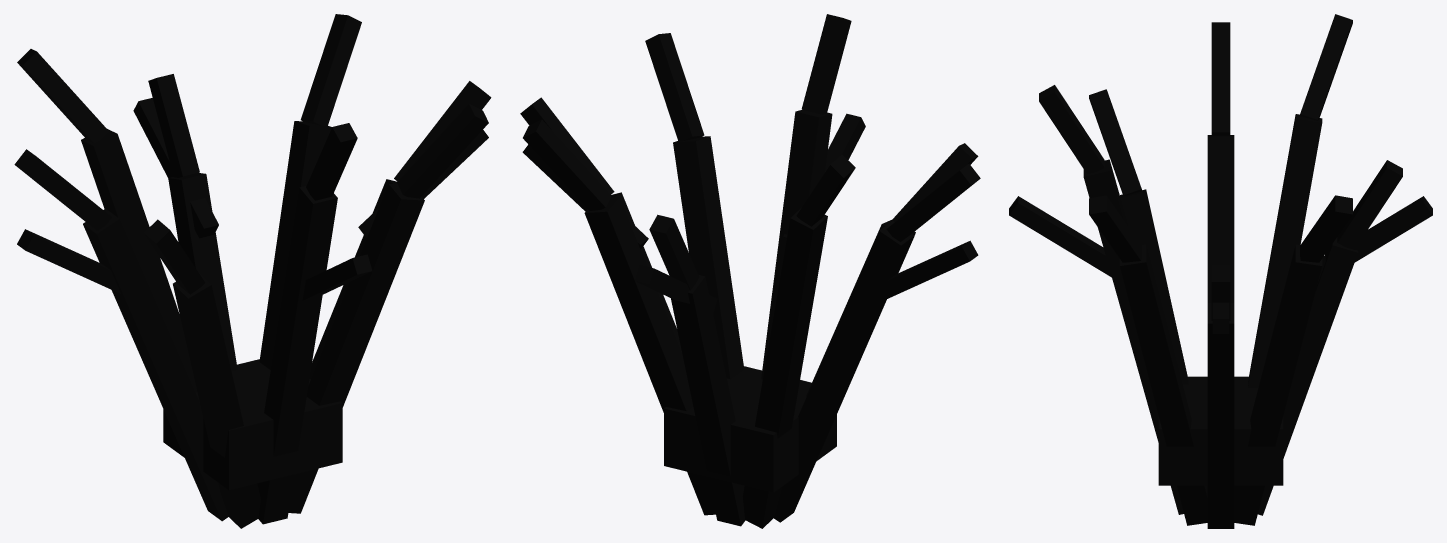
Rendered from mycelium_bundle.obj.
The picture shows the model from 3 angles, left to right: view 1: azimuth 30°, elevation 25°; view 2: azimuth 150°, elevation 25°; view 3: azimuth 270°, elevation 25°; orthographic projection. The views are drawn at different scales.
Size of the model in its own units: 0.875 by 0.8069 by 0.7261.
